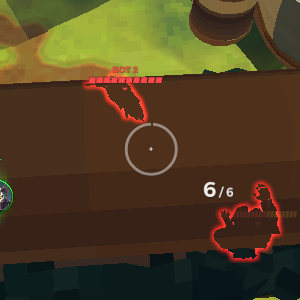model: (224, 193, 271, 267), (104, 77, 150, 125)
